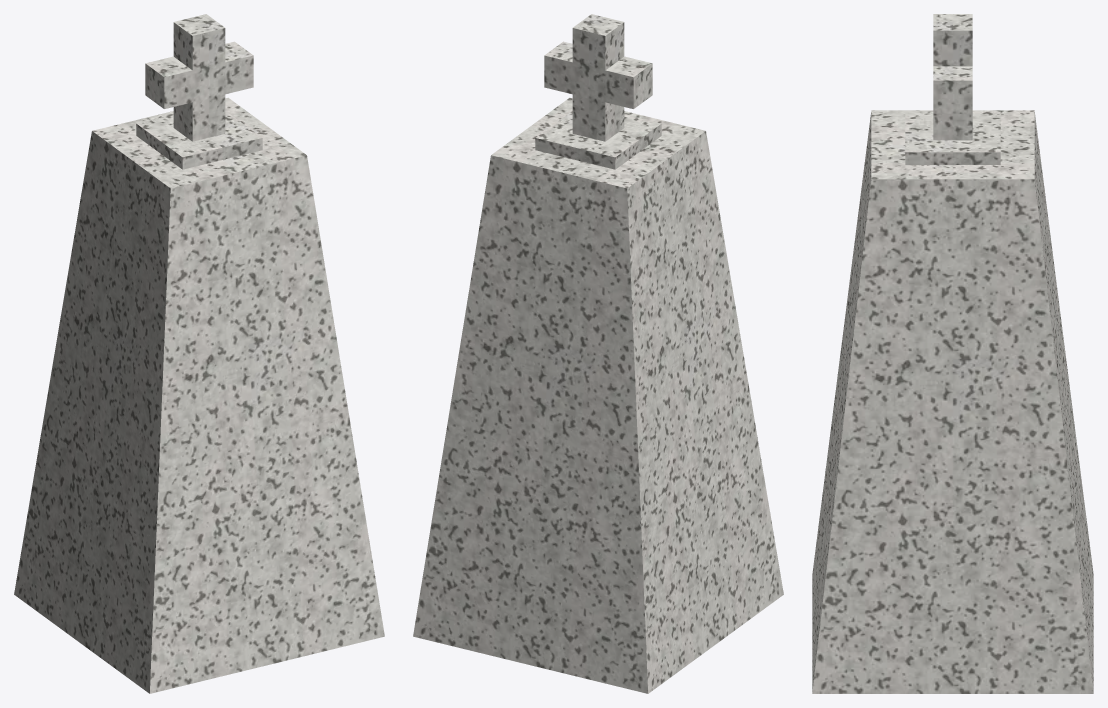
File: white_king.glb
3 views of the same model, side by side, from view 1: azimuth 30°, elevation 25°; view 2: azimuth 150°, elevation 25°; view 3: azimuth 270°, elevation 25° (orthographic). The views are drawn at different scales.
Visible parts, largest first — view 1: White_King; view 2: White_King; view 3: White_King.
Part boxes in pixels (bbox=[...]): White_King: bbox=[14, 14, 384, 693]; White_King: bbox=[413, 14, 783, 693]; White_King: bbox=[812, 14, 1093, 693].
Size of the model in its own units: 0.034 by 0.0816 by 0.034.
Materials: 1 (1 with a texture image).
